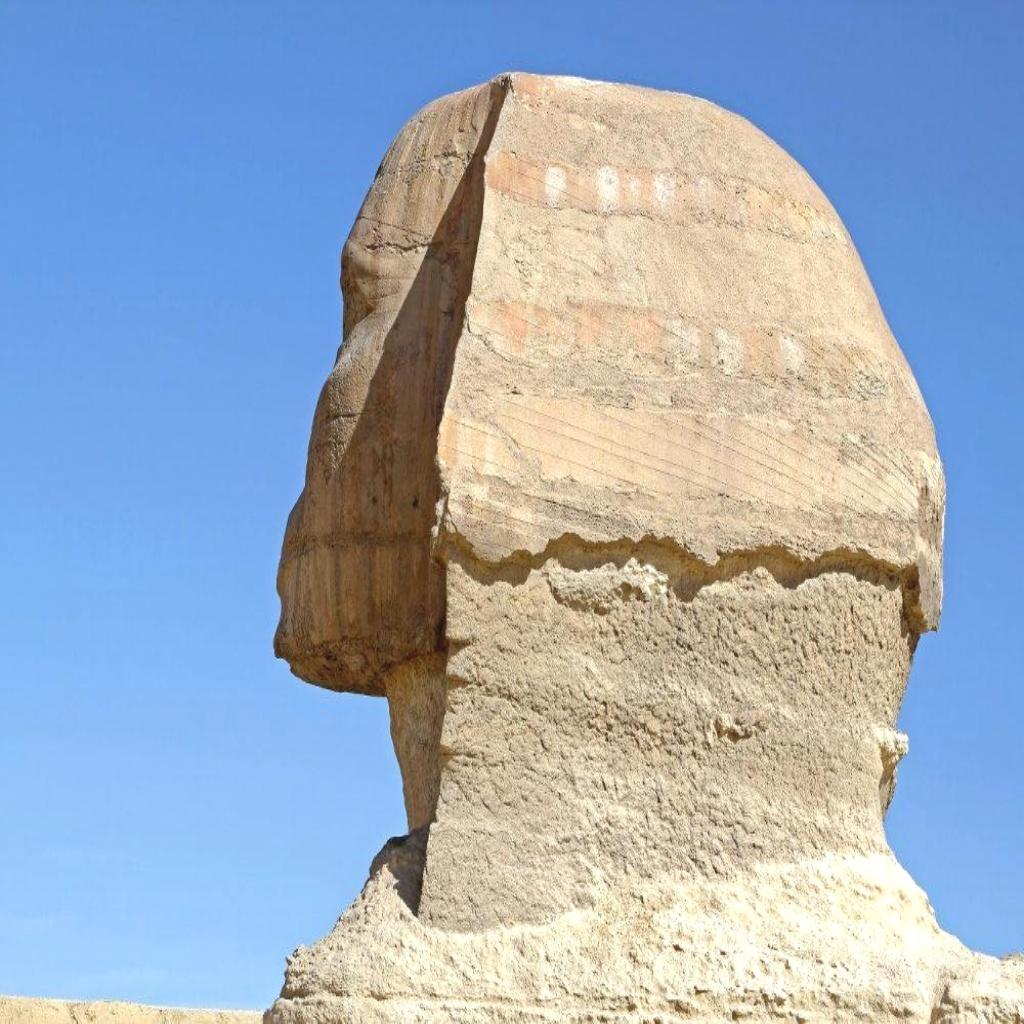Sphinx: (265, 68, 1022, 1020)
